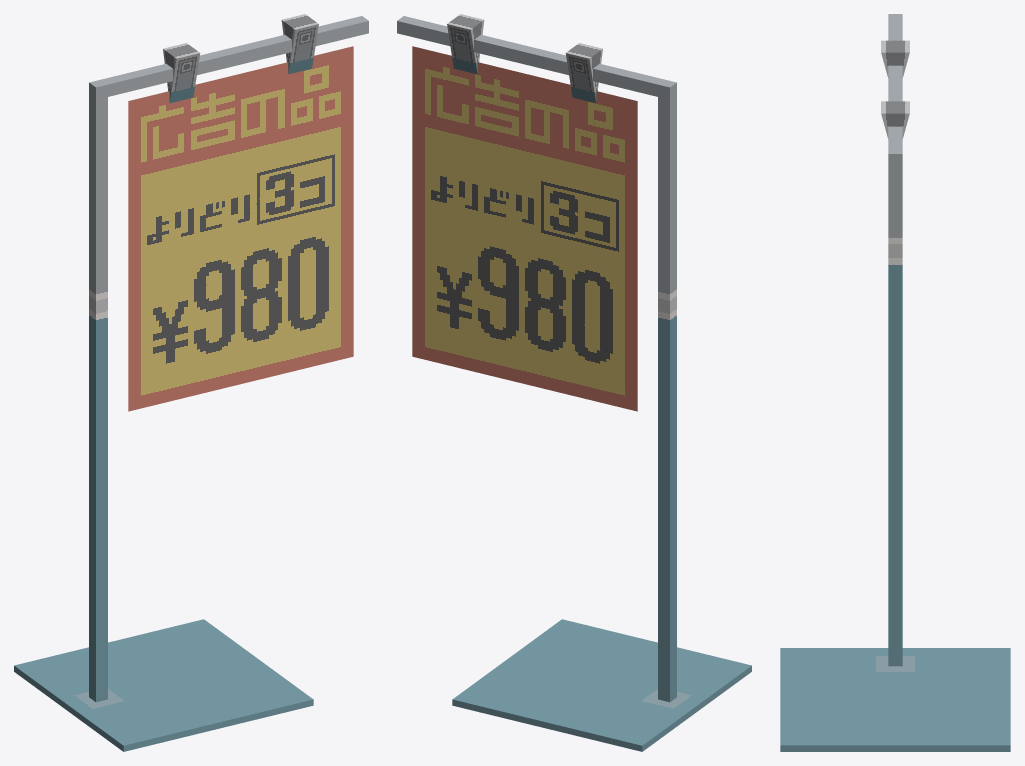
File: 03bb_Price_Tag.glb
3 renders of one model, left to right at view 1: azimuth 30°, elevation 25°; view 2: azimuth 150°, elevation 25°; view 3: azimuth 270°, elevation 25°, orthographic. The views are drawn at different scales.
Visible parts, largest first — view 1: part_0; view 2: part_0; view 3: part_0.
Part boxes in pixels (<box>): part_0: <box>14,14,368,751</box>; part_0: <box>397,14,751,751</box>; part_0: <box>780,14,1010,751</box>.
Size of the model in its own units: 0.3125 by 0.6375 by 0.2.
Materials: 1 (1 with a texture image).
